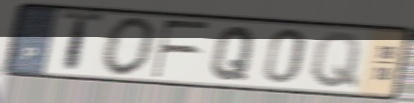0: (260, 26, 309, 87)
F: (150, 18, 214, 80)
O: (100, 15, 160, 79)
Q: (309, 30, 364, 90), (209, 24, 259, 82)
T: (58, 10, 107, 77)
